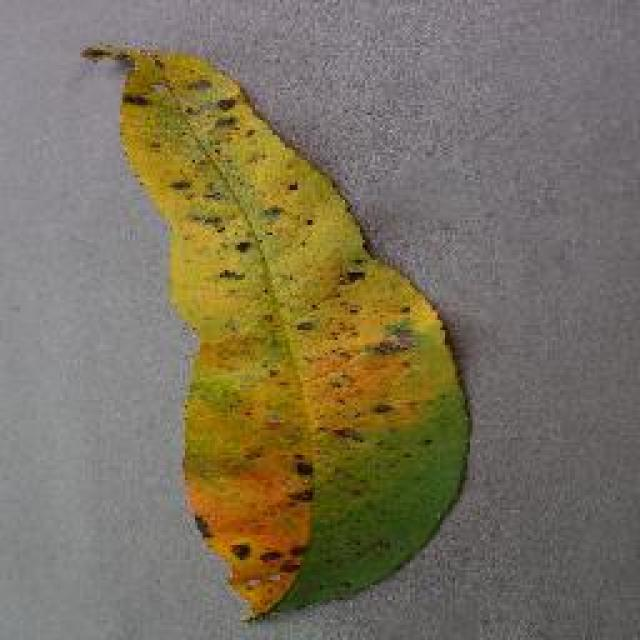Peach_Bacterial_Spot: (133, 50, 402, 622)
